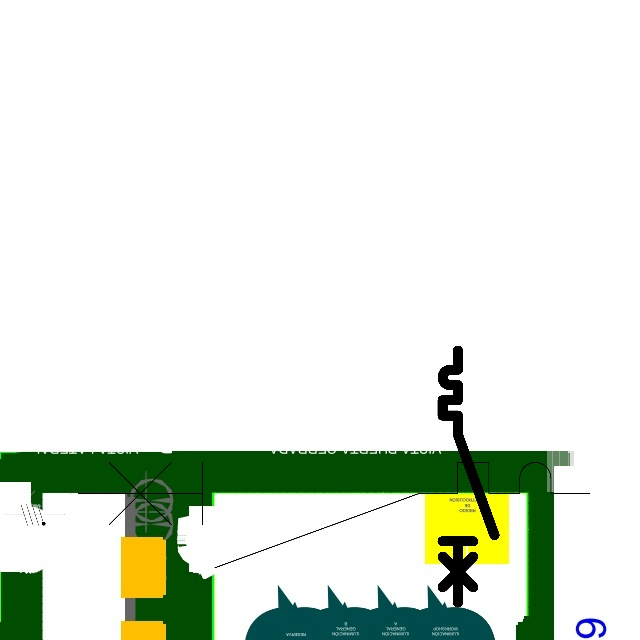interruptor_termomagnetico: (64, 449, 602, 580), (436, 344, 500, 609)
